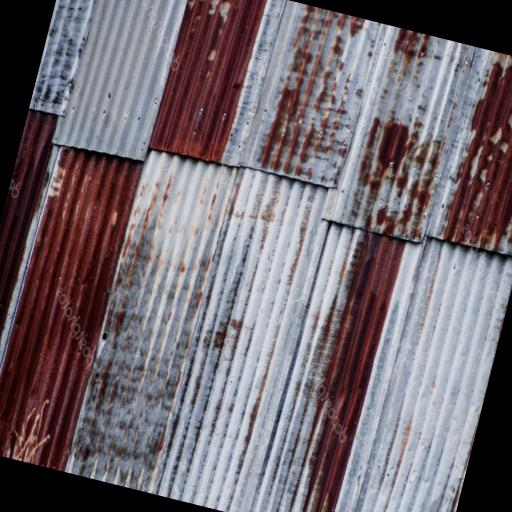segmentation: (0, 141, 143, 467), (289, 225, 406, 512), (261, 7, 379, 189), (399, 167, 437, 239), (373, 120, 413, 183), (393, 29, 428, 64), (260, 178, 283, 222), (349, 16, 365, 37), (214, 326, 227, 347)
